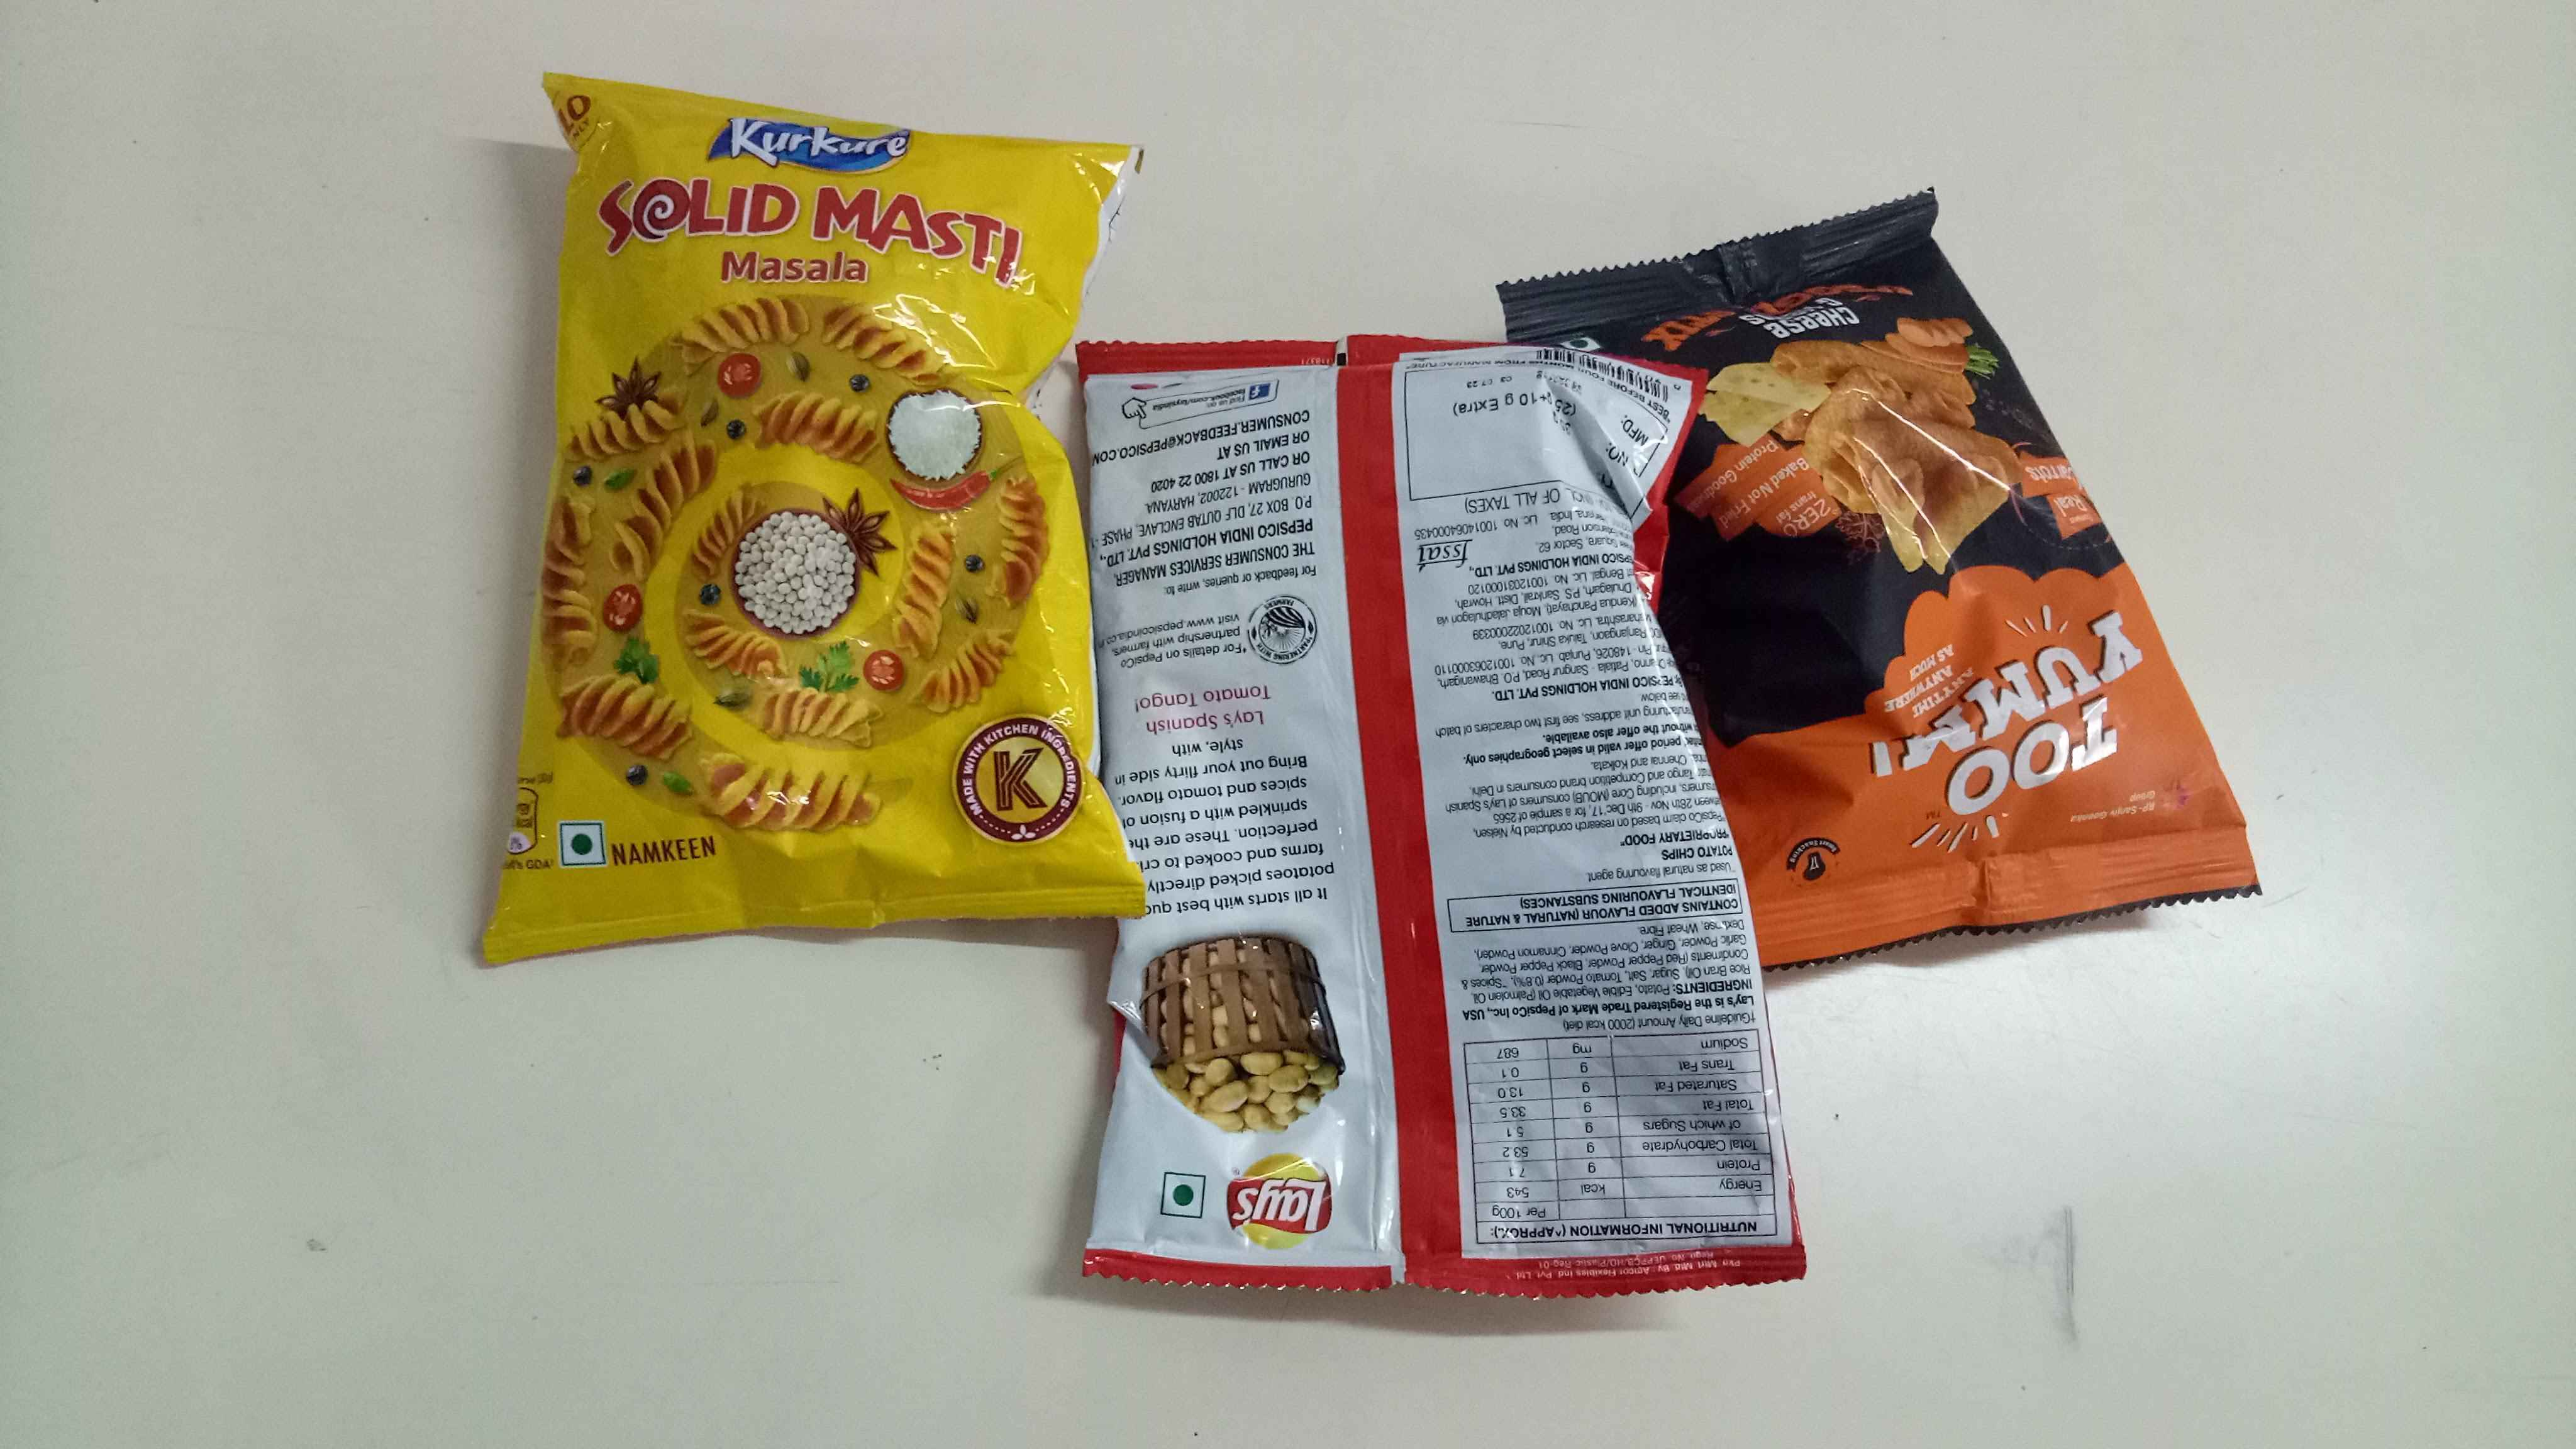Lays: (1215, 1157, 1362, 1253)
kurkure: (709, 111, 934, 184)
tooyumm: (1872, 612, 2157, 851)
